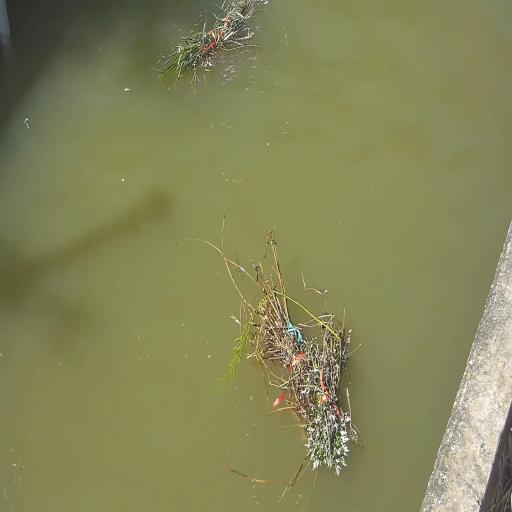twig: (203, 217, 359, 488), (158, 0, 266, 82)
